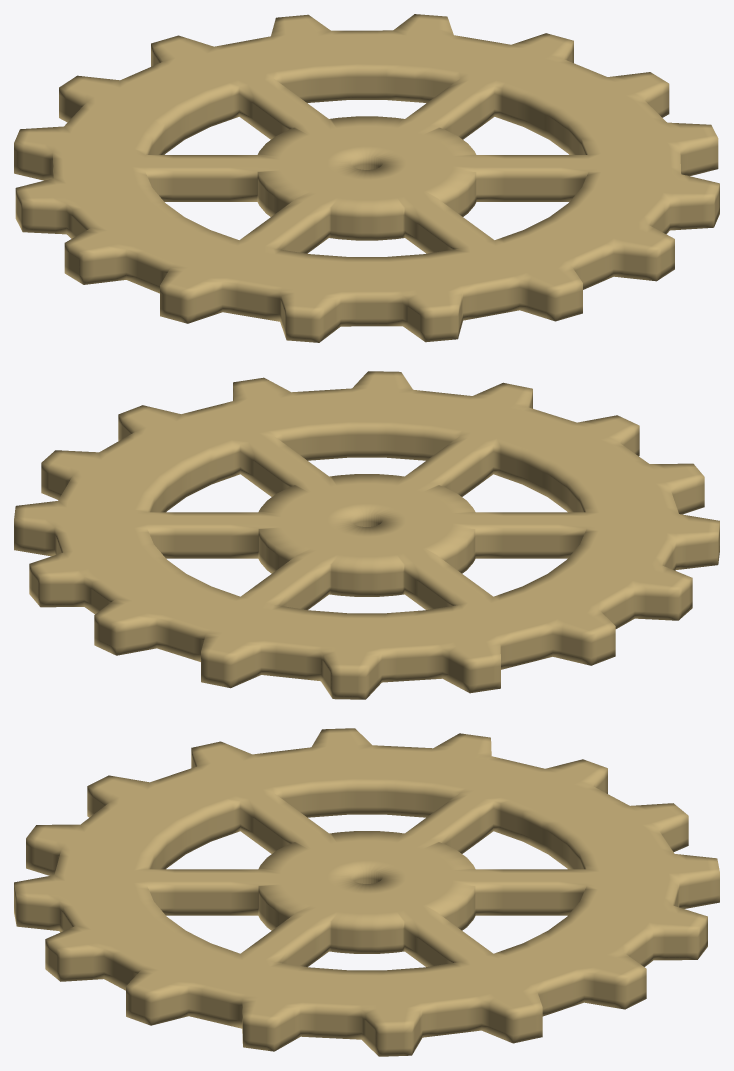
File: gearBigA.fbx
3 views of the same model, one above another, from view 1: azimuth 30°, elevation 25°; view 2: azimuth 150°, elevation 25°; view 3: azimuth 270°, elevation 25° (orthographic).
Visible parts, largest first — view 1: gearBigA.000; view 2: gearBigA.000; view 3: gearBigA.000.
Part boxes in pixels (left/top/right/bottom): gearBigA.000: left=14, top=14, right=719, bottom=342; gearBigA.000: left=14, top=371, right=719, bottom=699; gearBigA.000: left=14, top=728, right=719, bottom=1056.
Size of the model in its own units: 4.22 by 0.2 by 4.22.
